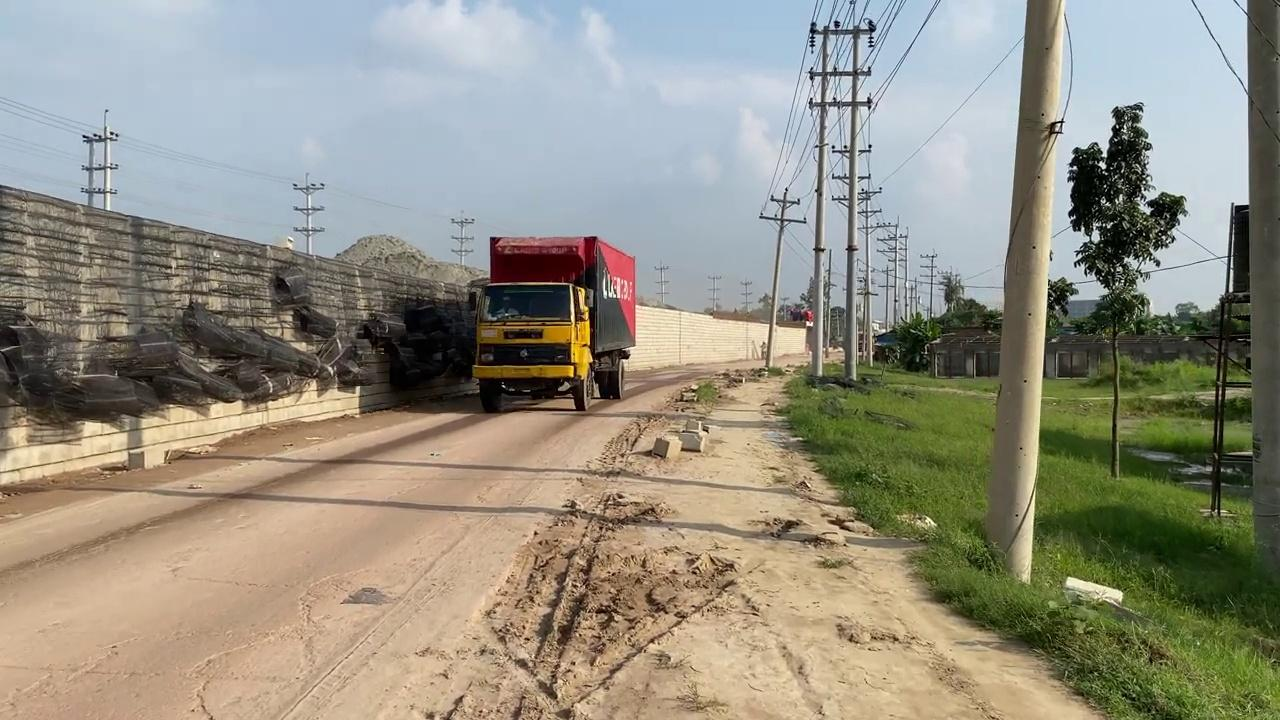Garbage: (1, 294, 474, 419)
Muddy road: (1, 353, 1104, 718)
Obstacle: (651, 417, 709, 459), (651, 435, 681, 460)
Pole: (984, 0, 1066, 584), (1245, 0, 1279, 585), (839, 19, 874, 381), (807, 23, 833, 376)
Sidewalk: (1122, 443, 1253, 493)
Traffic-sign: (1065, 100, 1188, 478)
Tree: (470, 234, 636, 412)
Upstairs: (0, 183, 488, 484)
